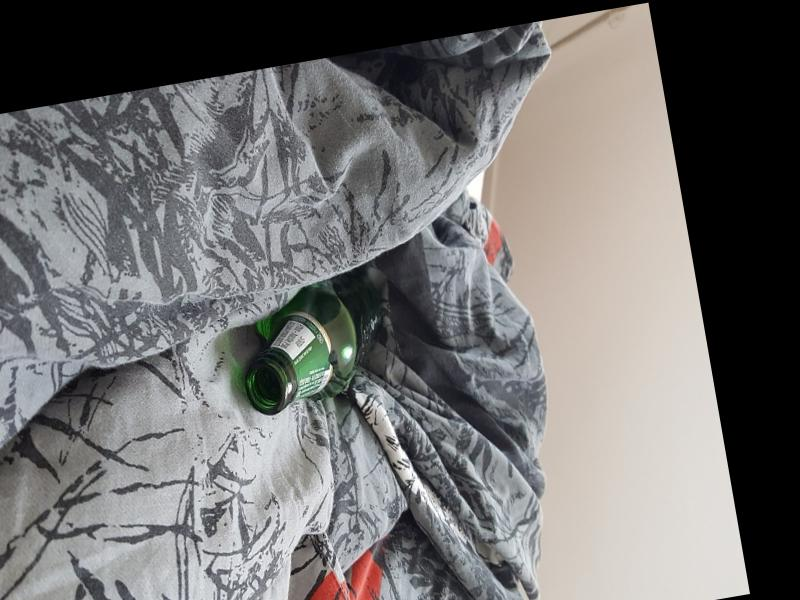Beer: (229, 275, 393, 414)
